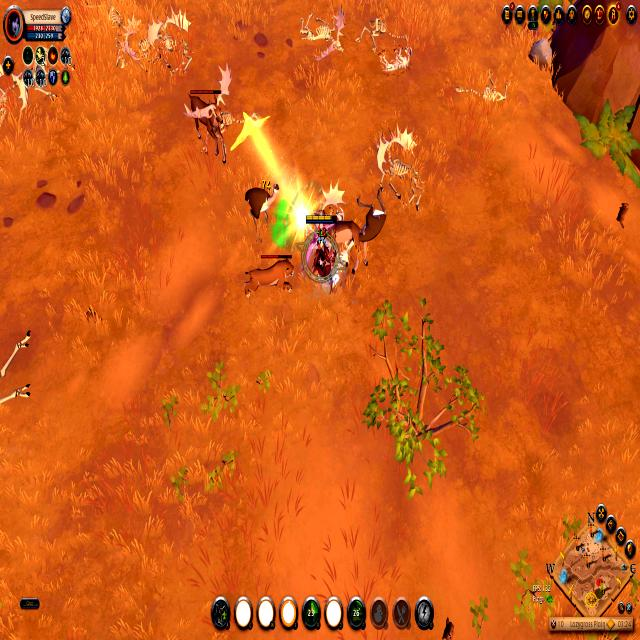mob: (312, 200, 368, 274), (358, 182, 389, 248)
ore: (181, 68, 234, 168), (239, 246, 299, 309), (243, 177, 282, 230)
red: (306, 213, 334, 274)
